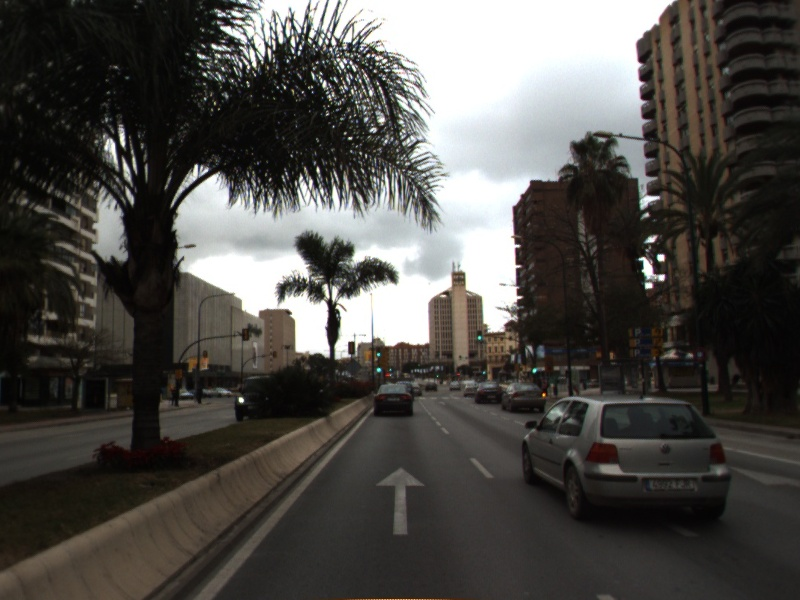STRAIGHT: (373, 465, 427, 537)
